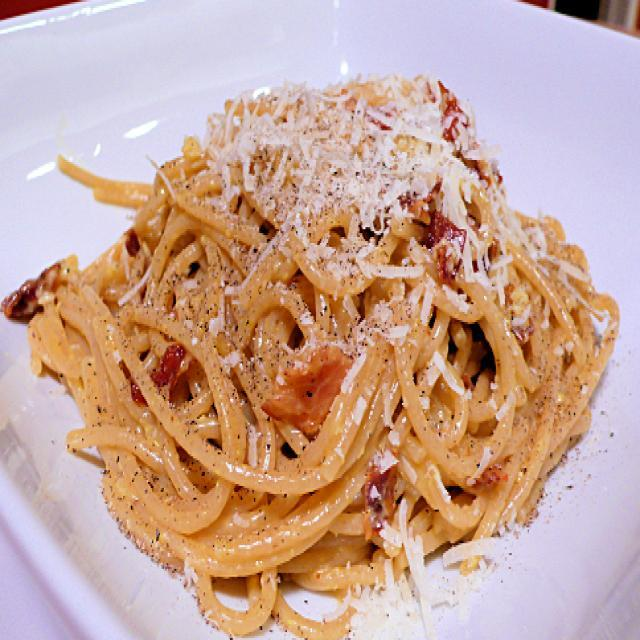Pasta: (43, 60, 627, 640)
